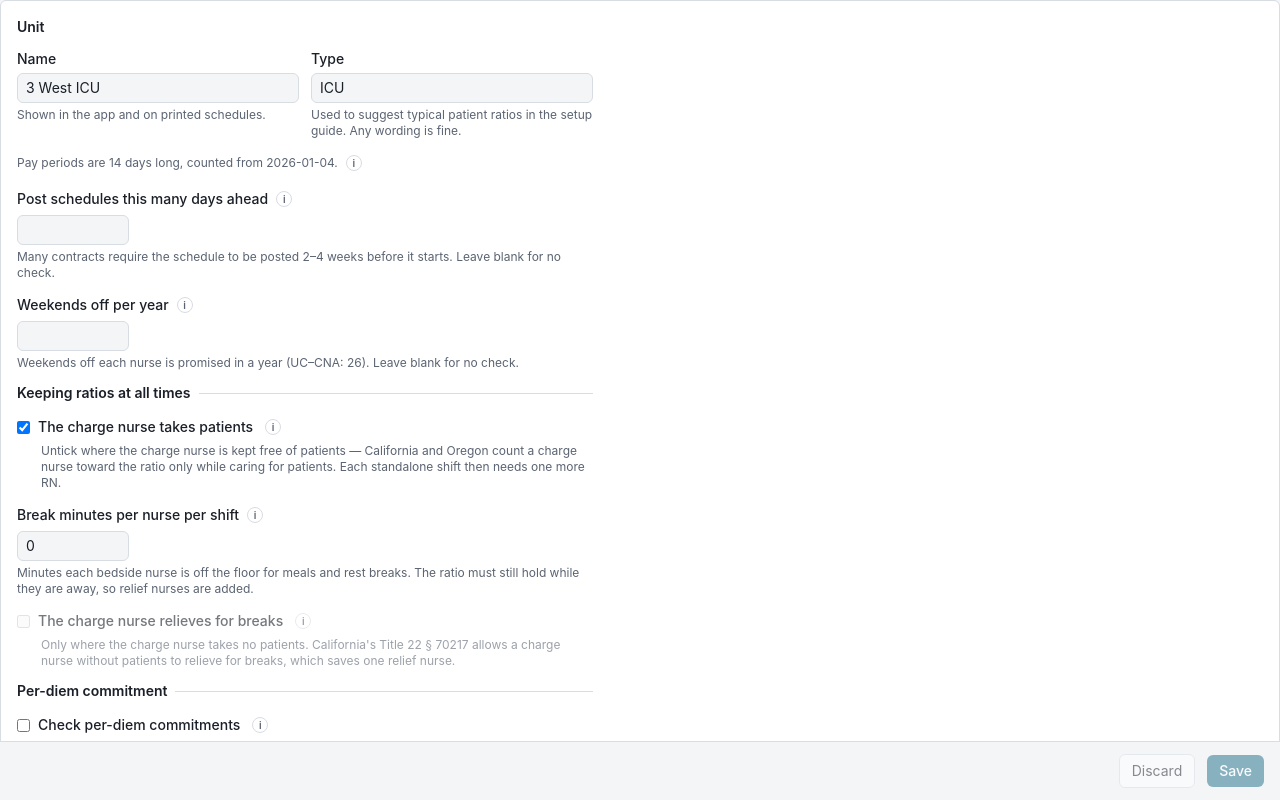
Settings › Unit ratio staffing › offers the charge nurse for breaks only once the charge is kept free of patients
Expected: the checkbox labelled "The charge nurse relieves for breaks" is disabled, [17,614,30,628]
Click the checkbox labelled "The charge nurse takes patients".
click(24, 427)  # box [17,420,30,434]
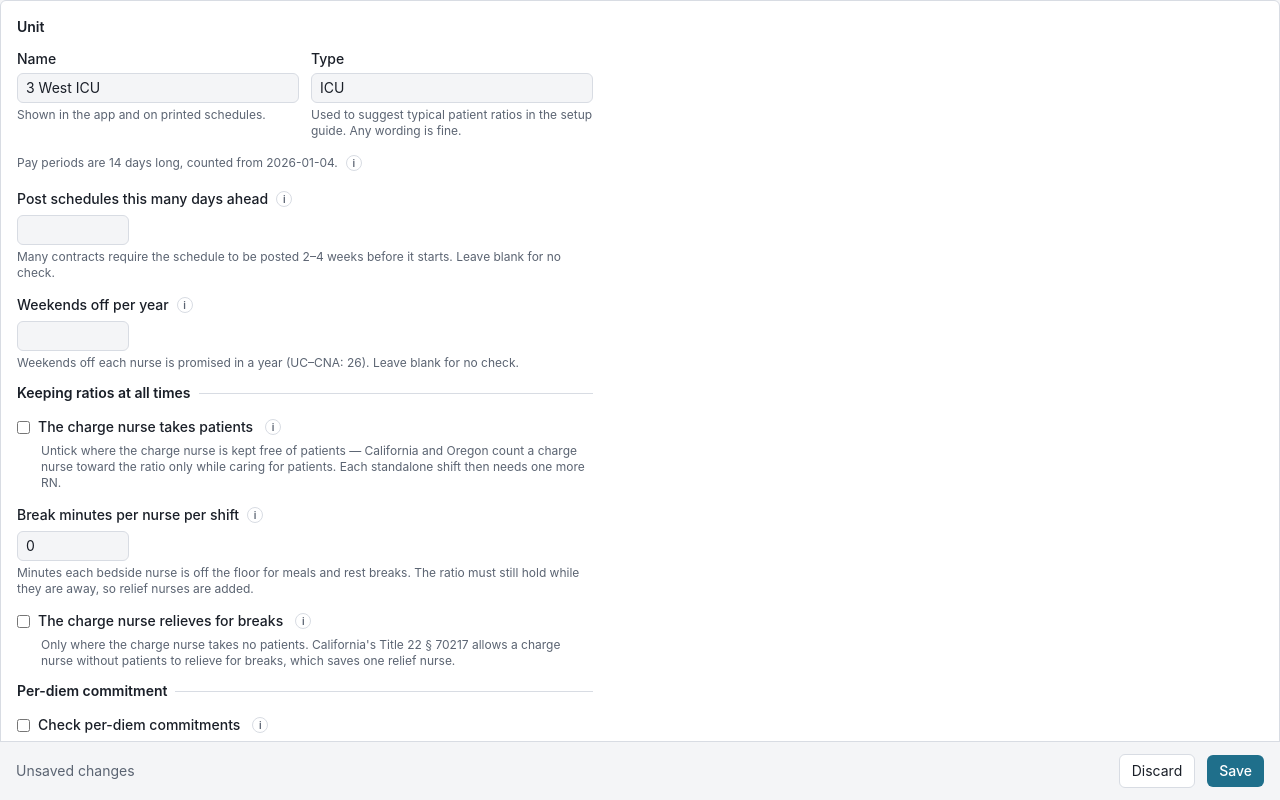
Expected: the checkbox labelled "The charge nurse relieves for breaks" is enabled, [17,614,30,628]
